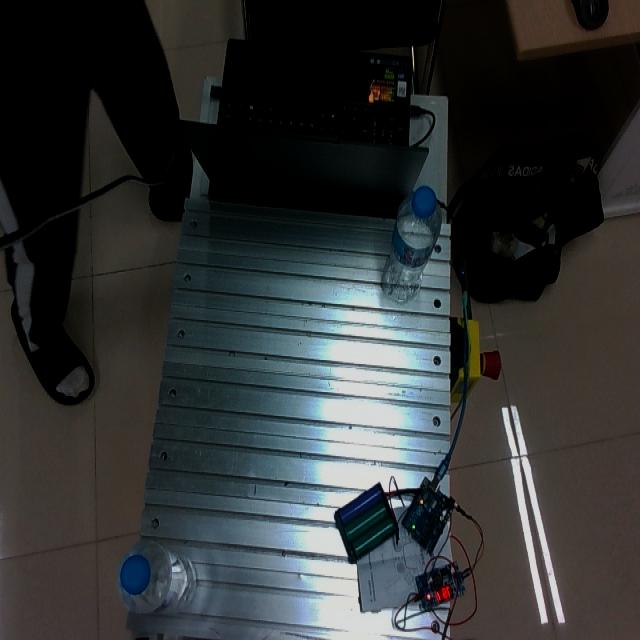lavie: (381, 184, 442, 304), (119, 538, 197, 614)
